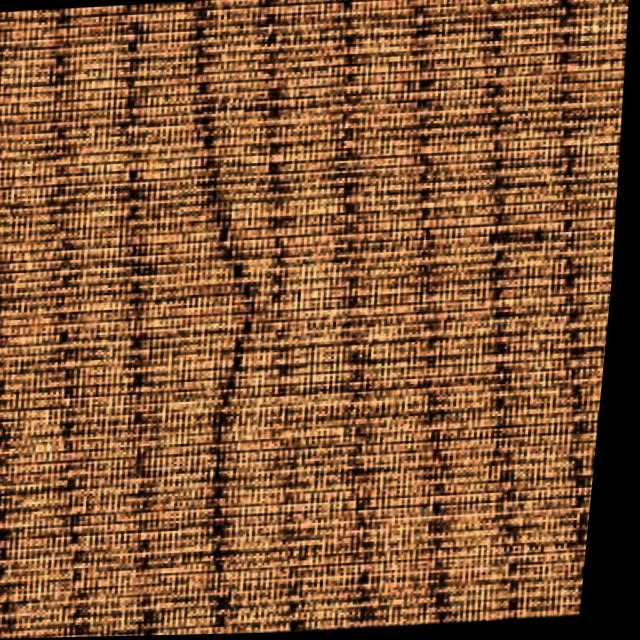Stitch: (122, 44, 323, 558)
